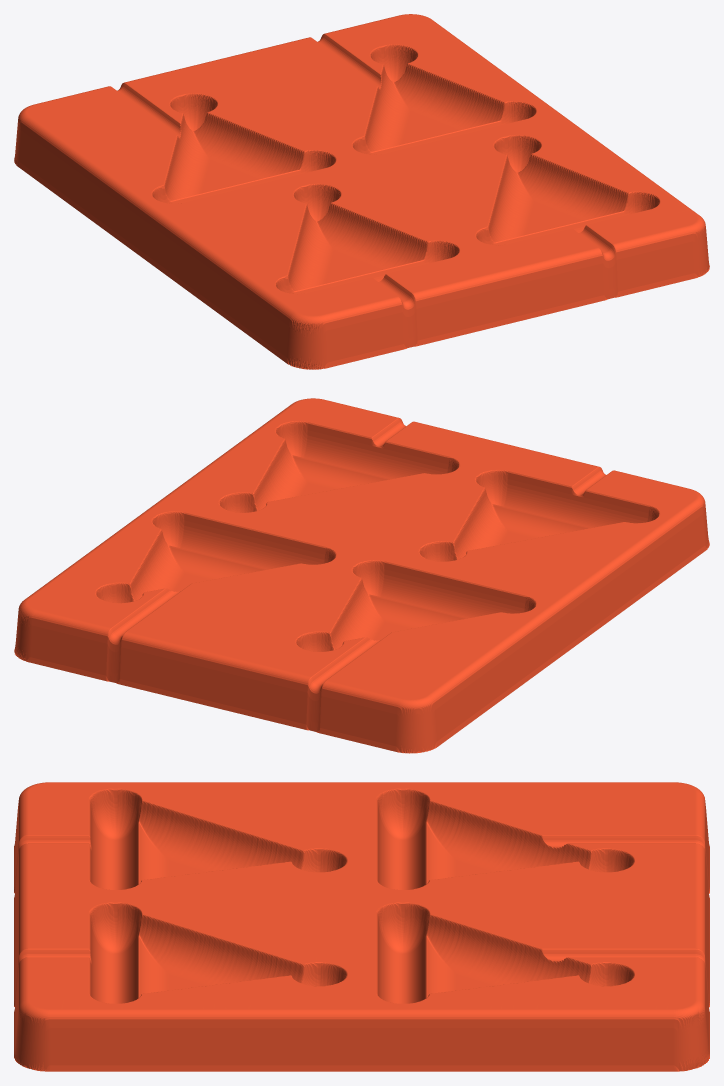
The model's file is mold.glb.
The picture shows the model from 3 angles, top to bottom: view 1: azimuth 30°, elevation 25°; view 2: azimuth 150°, elevation 25°; view 3: azimuth 270°, elevation 25°; orthographic projection. The views are drawn at different scales.
Visible parts, largest first — view 1: geometry_0; view 2: geometry_0; view 3: geometry_0.
Boxes of the visible parts, x1,y1,x2,y2 form: geometry_0: (14,14,709,369); geometry_0: (14,398,709,753); geometry_0: (14,782,709,1071).
Size of the model in its own units: 0.1405 by 0.0155 by 0.1735.
